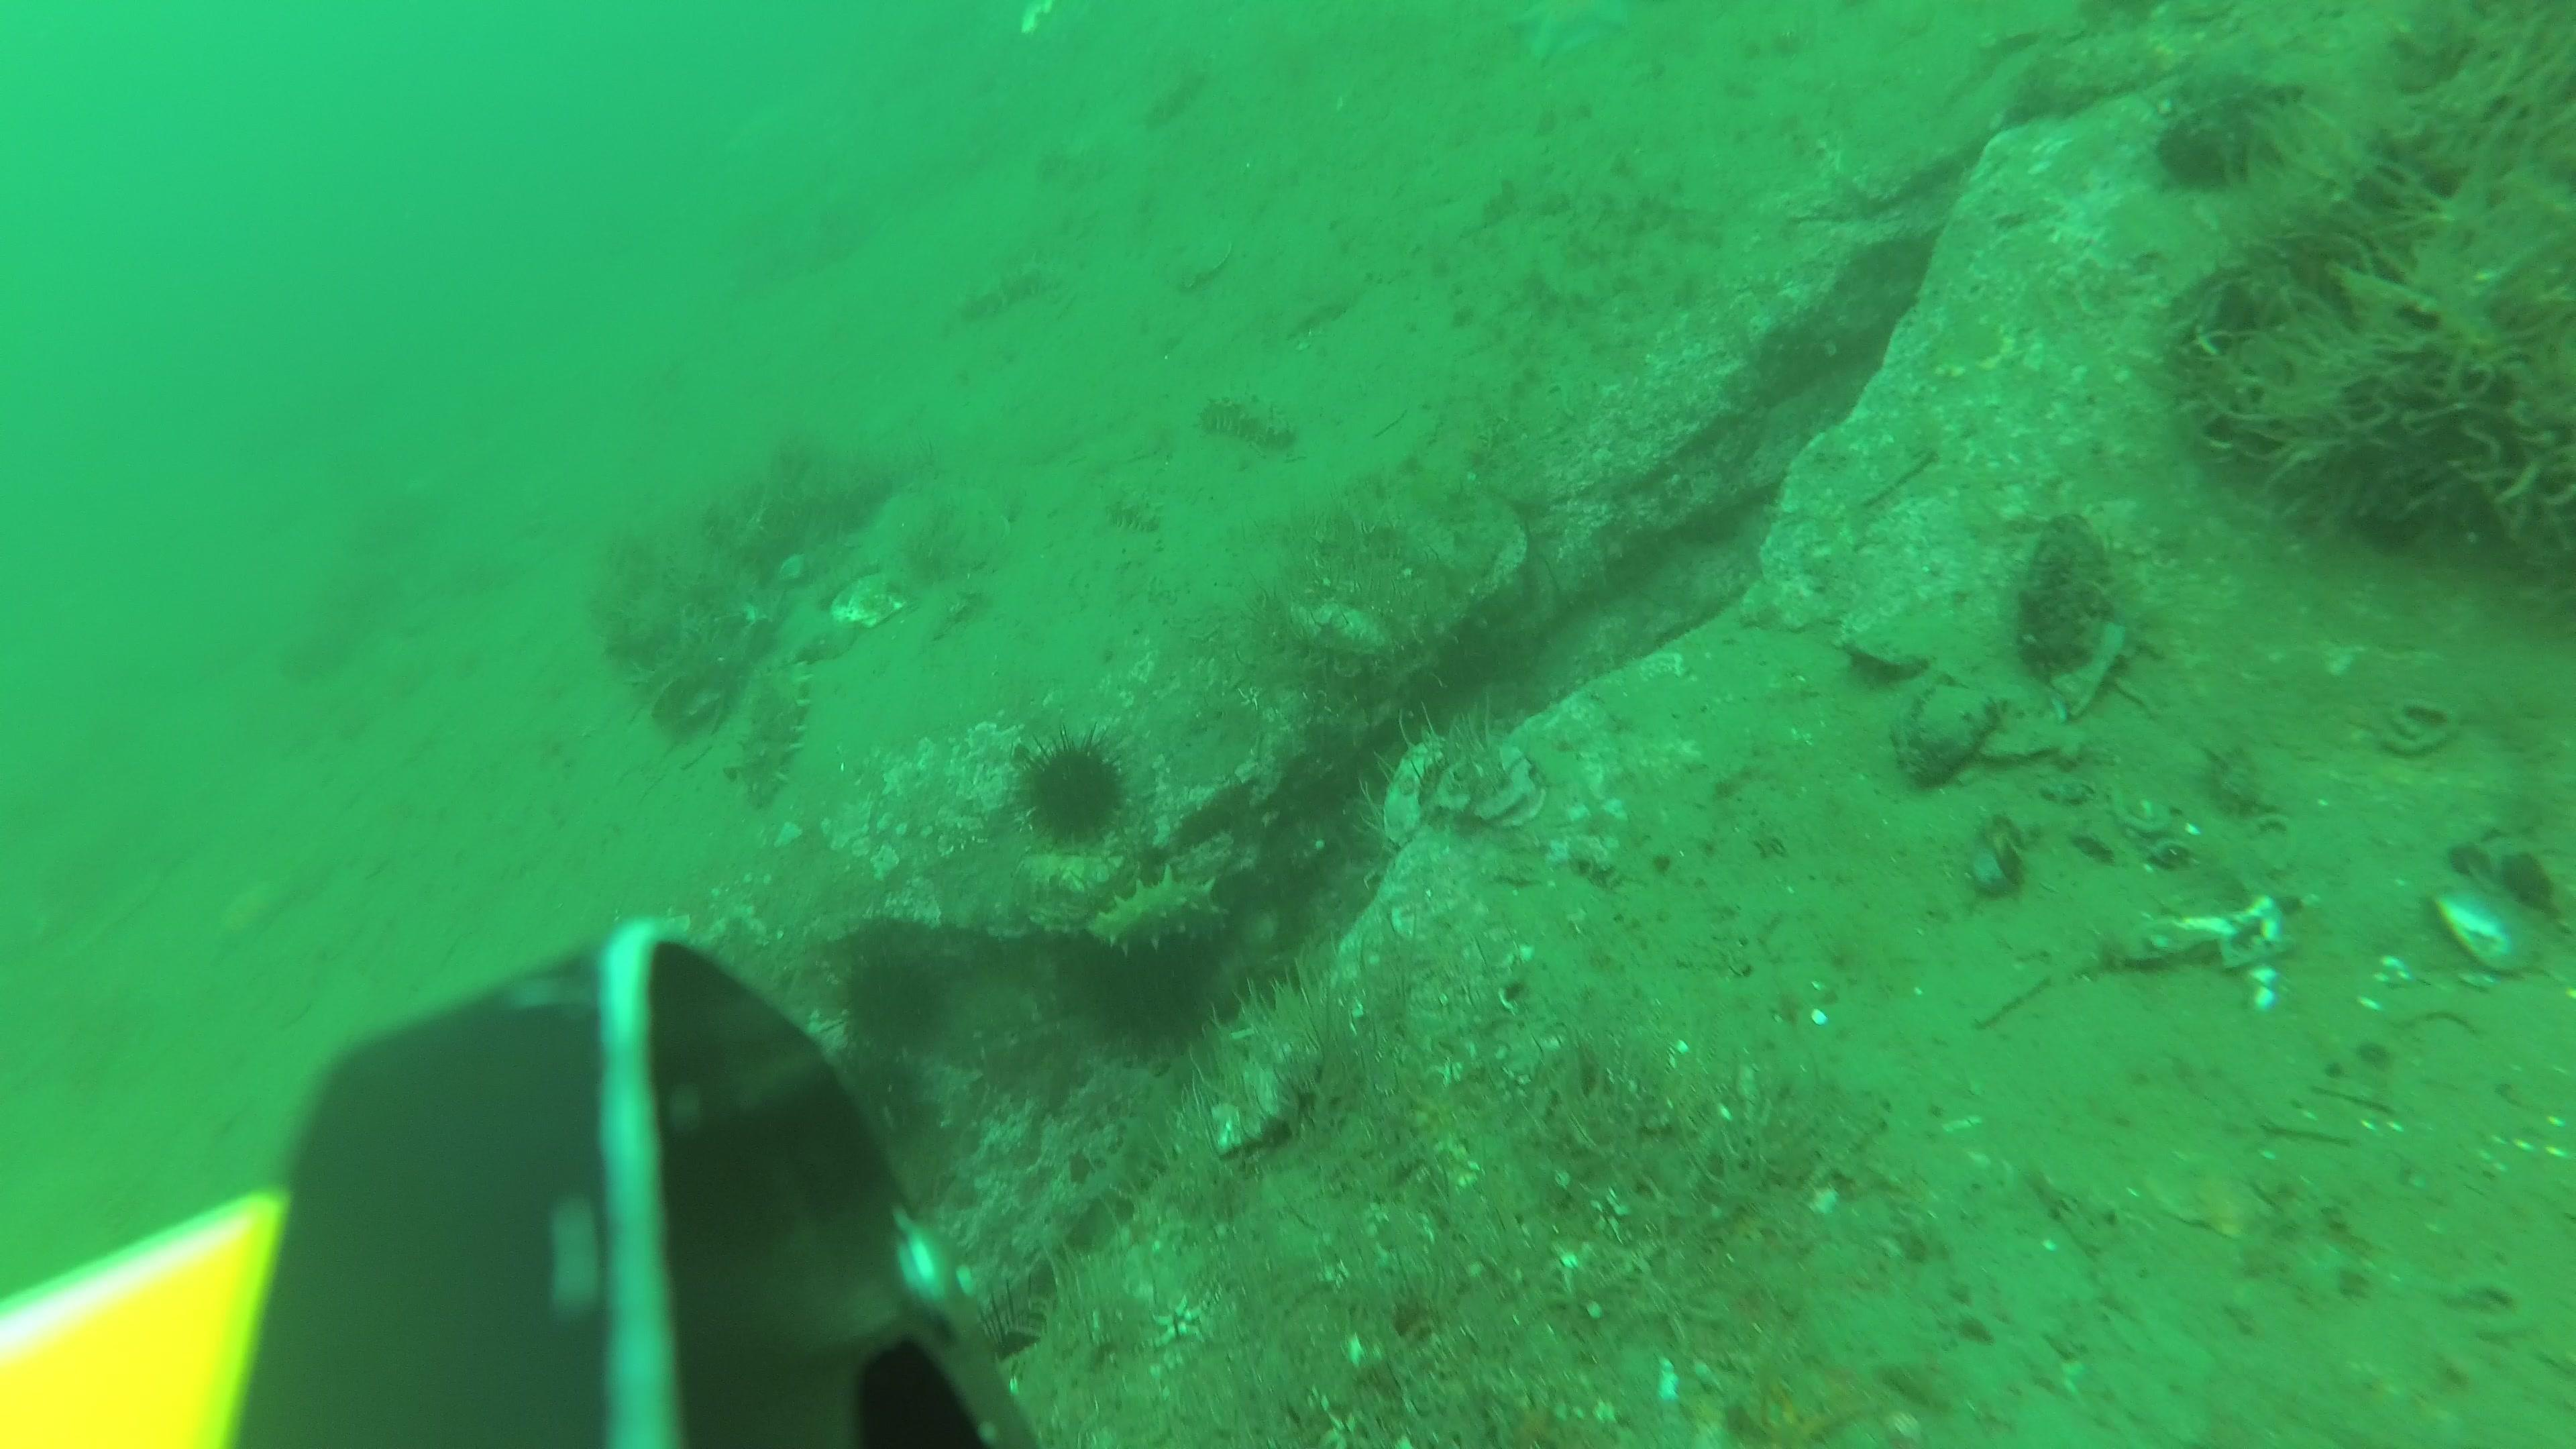echinus: (1010, 731, 1131, 855), (830, 947, 950, 1069), (971, 1281, 1079, 1408), (1093, 934, 1200, 1060), (823, 1049, 925, 1152)
holothurian: (1086, 1074, 1194, 1226), (1093, 863, 1230, 957), (741, 655, 810, 814), (1201, 389, 1299, 462), (964, 258, 1058, 324), (1150, 69, 1205, 127), (1104, 487, 1162, 536), (1033, 145, 1104, 186)
scallop: (2150, 1150, 2270, 1240), (929, 506, 1012, 579), (835, 575, 901, 633), (1177, 234, 1230, 290)
starfish: (1748, 1380, 1868, 1449), (1511, 0, 1635, 64), (209, 870, 281, 970), (1511, 1399, 1553, 1449)
